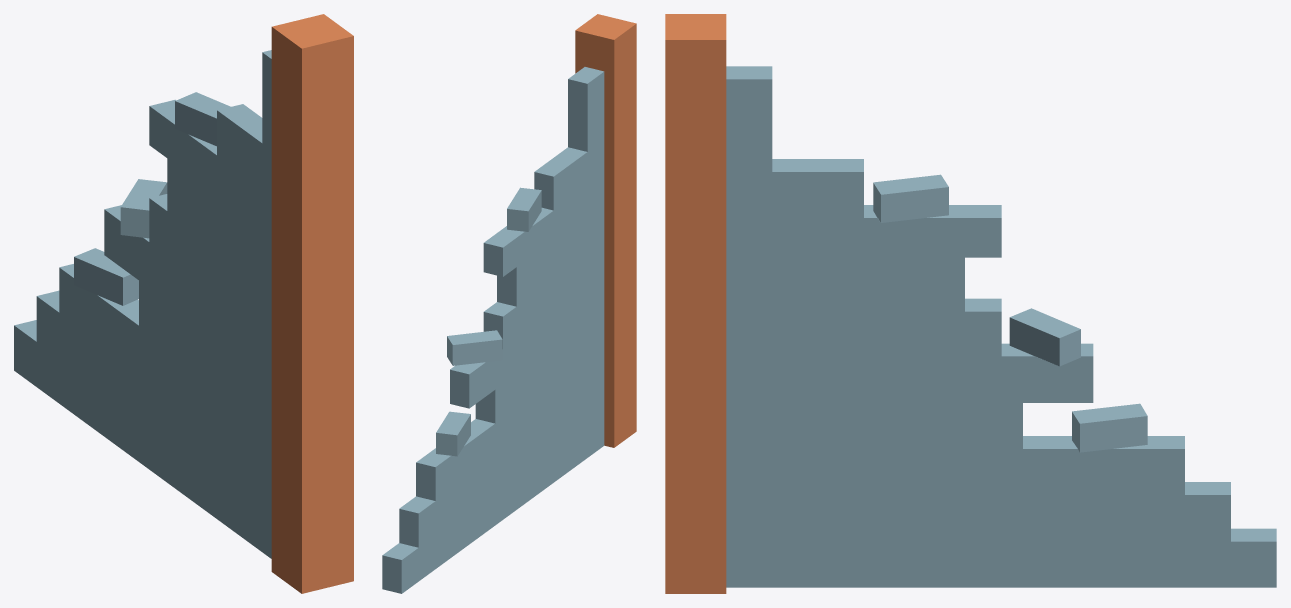
Rendered from wallBroken.obj.
The picture shows the model from 3 angles, left to right: view 1: azimuth 30°, elevation 25°; view 2: azimuth 150°, elevation 25°; view 3: azimuth 270°, elevation 25°; orthographic projection. The views are drawn at different scales.
Parts seen in each view (by area): view 1: wallBroken; view 2: wallBroken; view 3: wallBroken.
Part boxes in pixels (x1,y1,x2,y2): wallBroken: (14, 14, 353, 593); wallBroken: (382, 14, 636, 593); wallBroken: (665, 14, 1276, 593).
Size of the model in its own units: 0.116 by 1 by 1.
